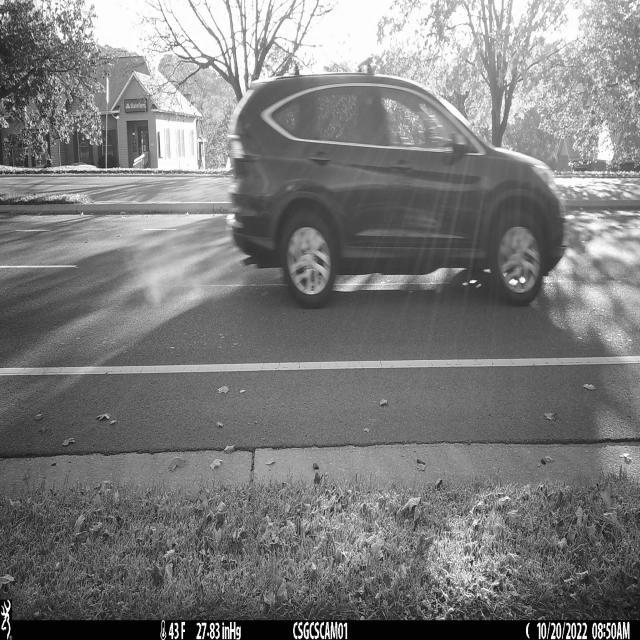SUV: (229, 73, 565, 308)
